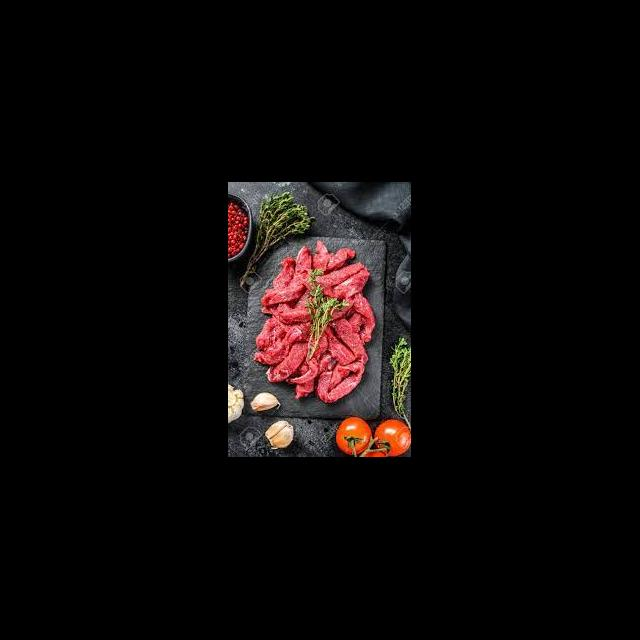beef: (262, 260, 366, 386)
